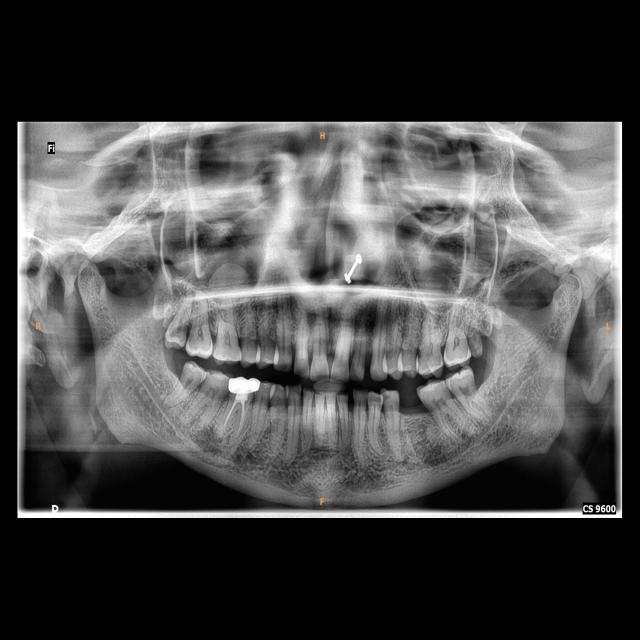dentin-curugu: (168, 316, 188, 345), (351, 386, 371, 411)
kanal-tedavisi: (224, 398, 249, 432)
kaplama: (228, 372, 260, 394)
